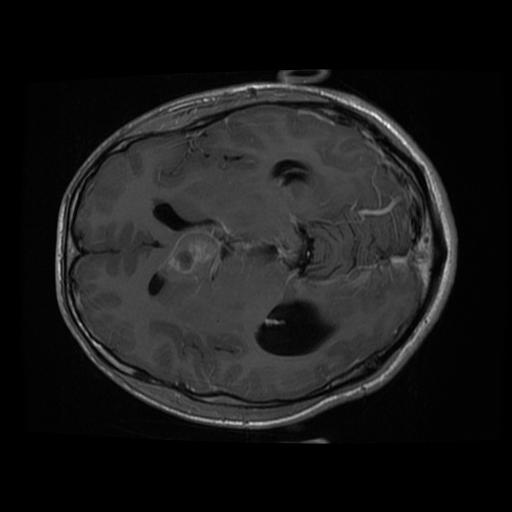glioma: (155, 225, 226, 290)
